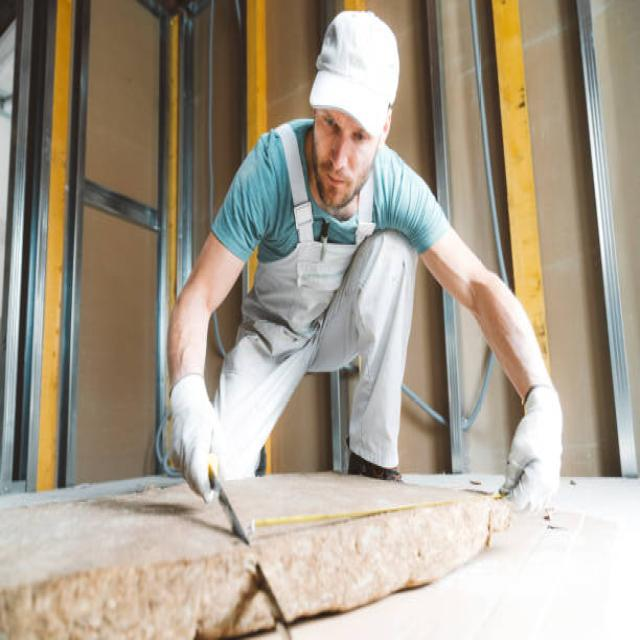gloves: (498, 383, 562, 521), (170, 370, 224, 499)
